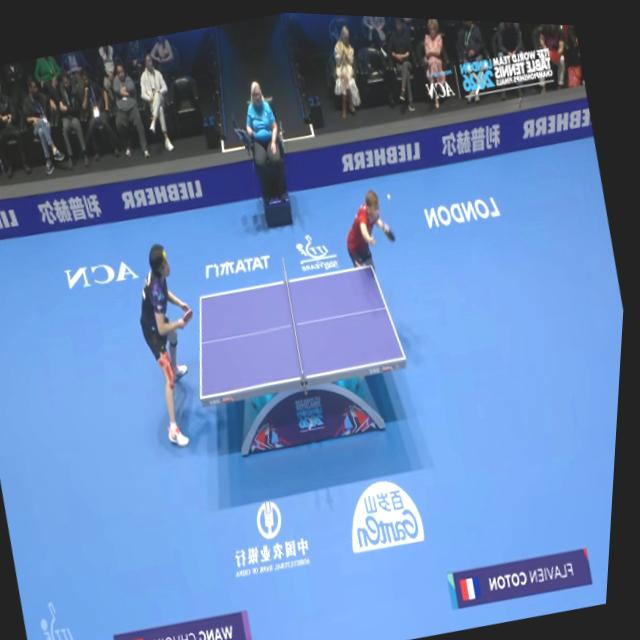TT Net: (280, 255, 307, 384)
TT Racket: (381, 223, 396, 246), (181, 305, 195, 327)
TT Table: (199, 264, 405, 400)
